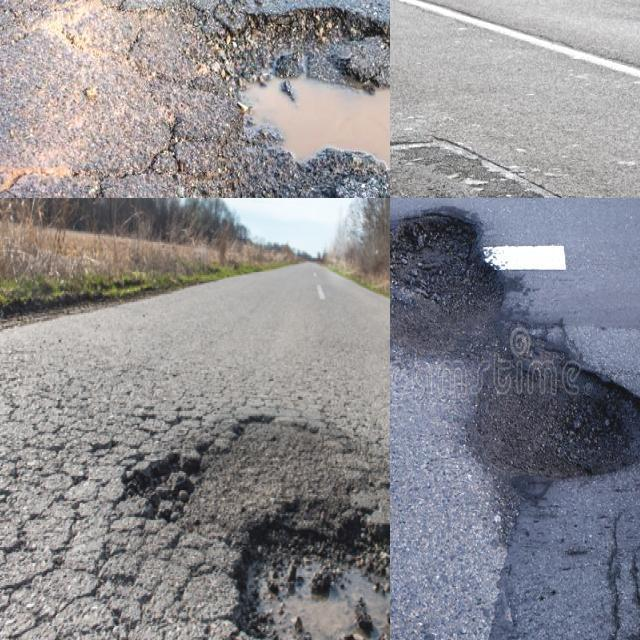Pothole: (390, 209, 640, 509), (231, 6, 390, 187), (229, 507, 390, 640)
